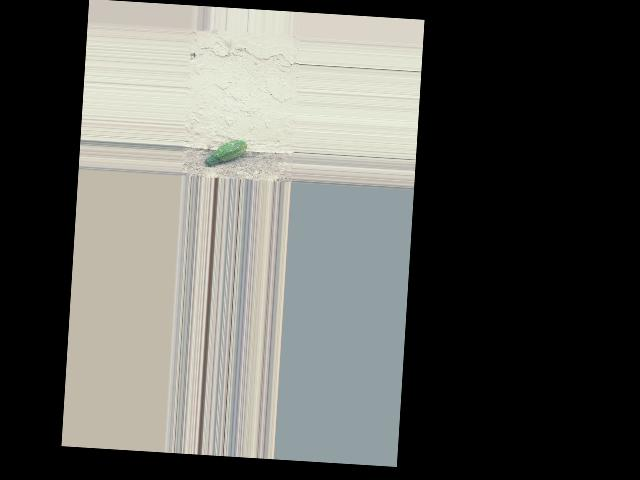cucumber: (205, 137, 247, 168)
